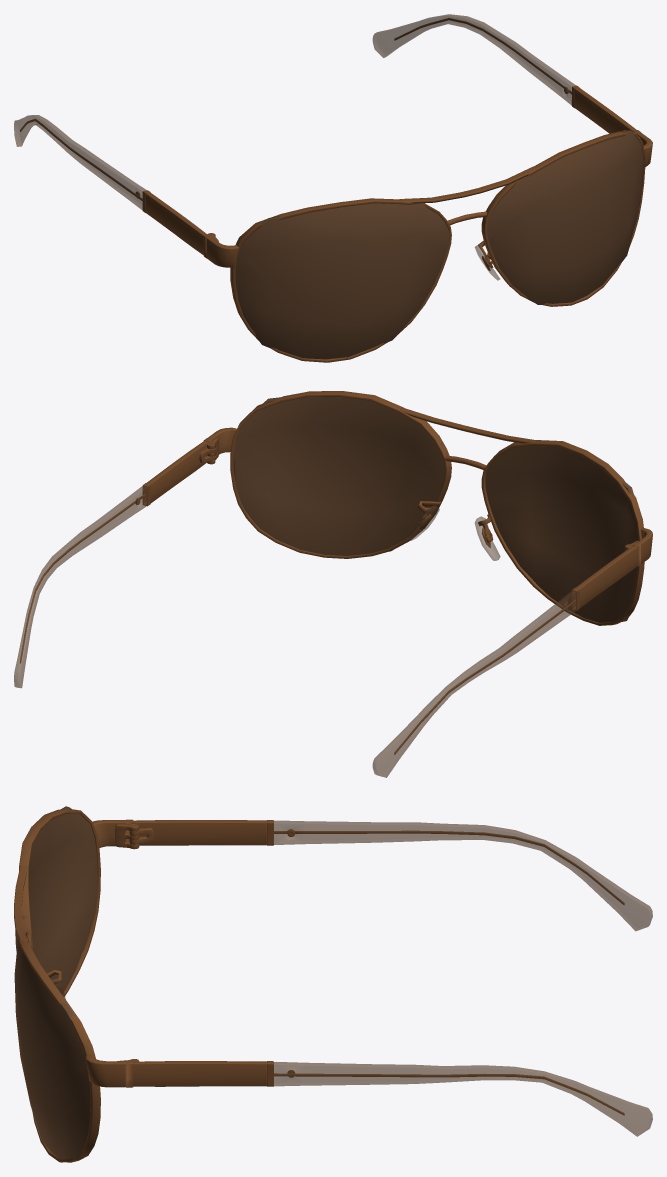
Rendered from cat-eye-zarif-havana.glb.
3 views of the same model, one above another, from view 1: azimuth 30°, elevation 25°; view 2: azimuth 150°, elevation 25°; view 3: azimuth 270°, elevation 25° (orthographic). The views are drawn at different scales.
Parts seen in each view (by area): view 1: OPTIK_PRODUCT_264; view 2: OPTIK_PRODUCT_264; view 3: OPTIK_PRODUCT_264.
Part boxes in pixels (x1,y1,x2,y2): OPTIK_PRODUCT_264: (14, 14, 652, 362); OPTIK_PRODUCT_264: (14, 391, 652, 777); OPTIK_PRODUCT_264: (14, 806, 652, 1162).
Size of the model in its own units: 0.1569 by 0.0556 by 0.1727.
